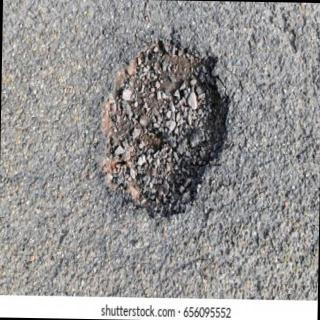pothole: (100, 42, 230, 219)
